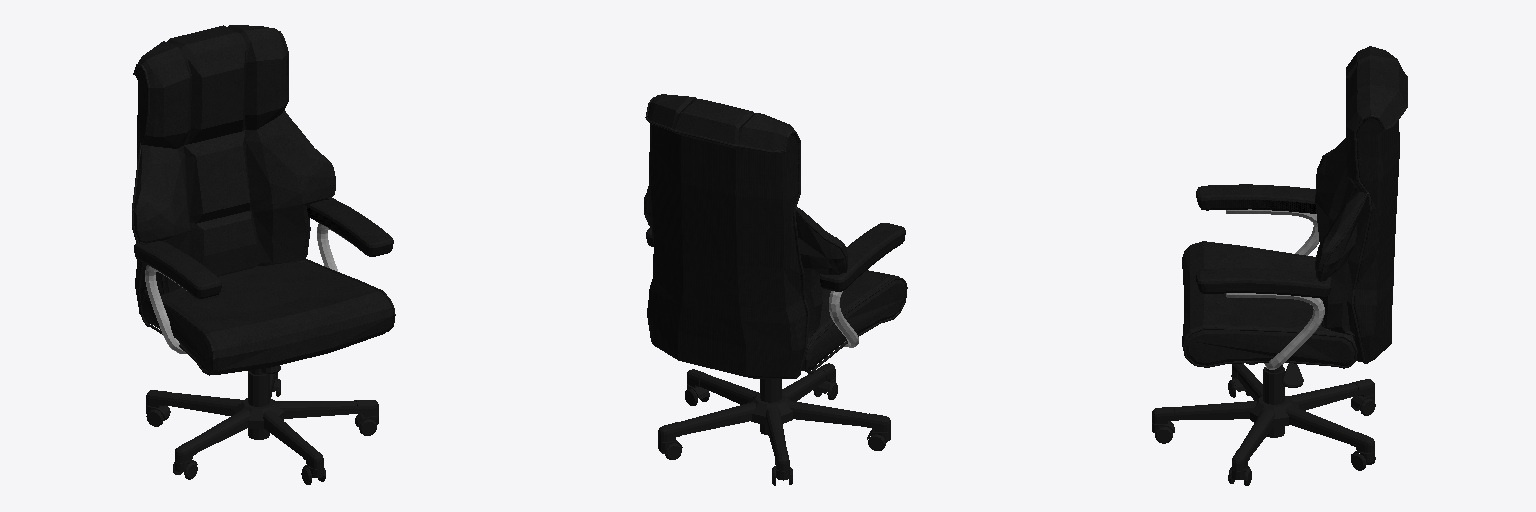
3 renders of one model, left to right at view 1: azimuth 30°, elevation 25°; view 2: azimuth 150°, elevation 25°; view 3: azimuth 270°, elevation 25°, orthographic.
Visible parts, largest first — view 1: chair_woo; view 2: chair_woo; view 3: chair_woo.
Part boxes in pixels (x1,y1,x2,y2): chair_woo: (132,25,395,484); chair_woo: (644,94,907,485); chair_woo: (1152,46,1407,485).
Bounding box in the file's own units: 0.6739 × 1.17 × 0.7396.
1 materials, 1 textured.